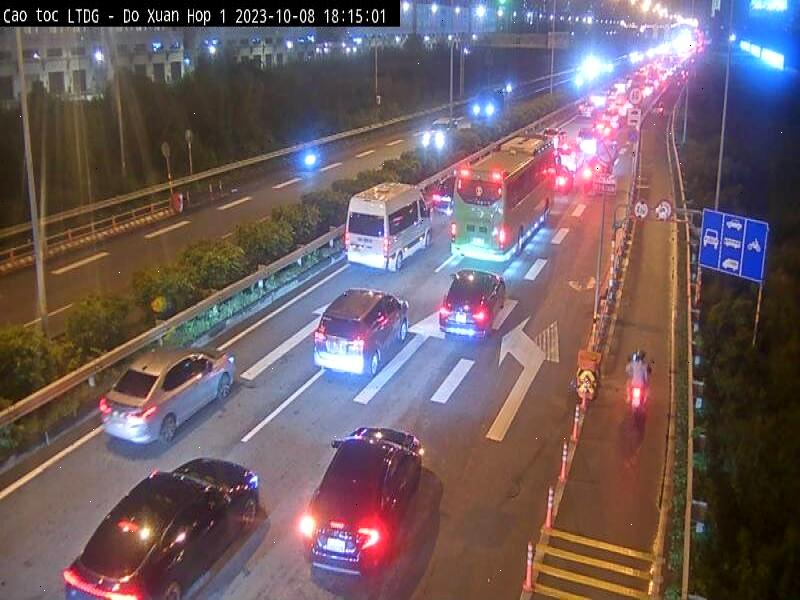bus: (453, 133, 557, 260)
car: (65, 456, 264, 598), (304, 424, 426, 580), (101, 353, 238, 458), (310, 292, 412, 380), (344, 182, 432, 274), (438, 270, 506, 336)
